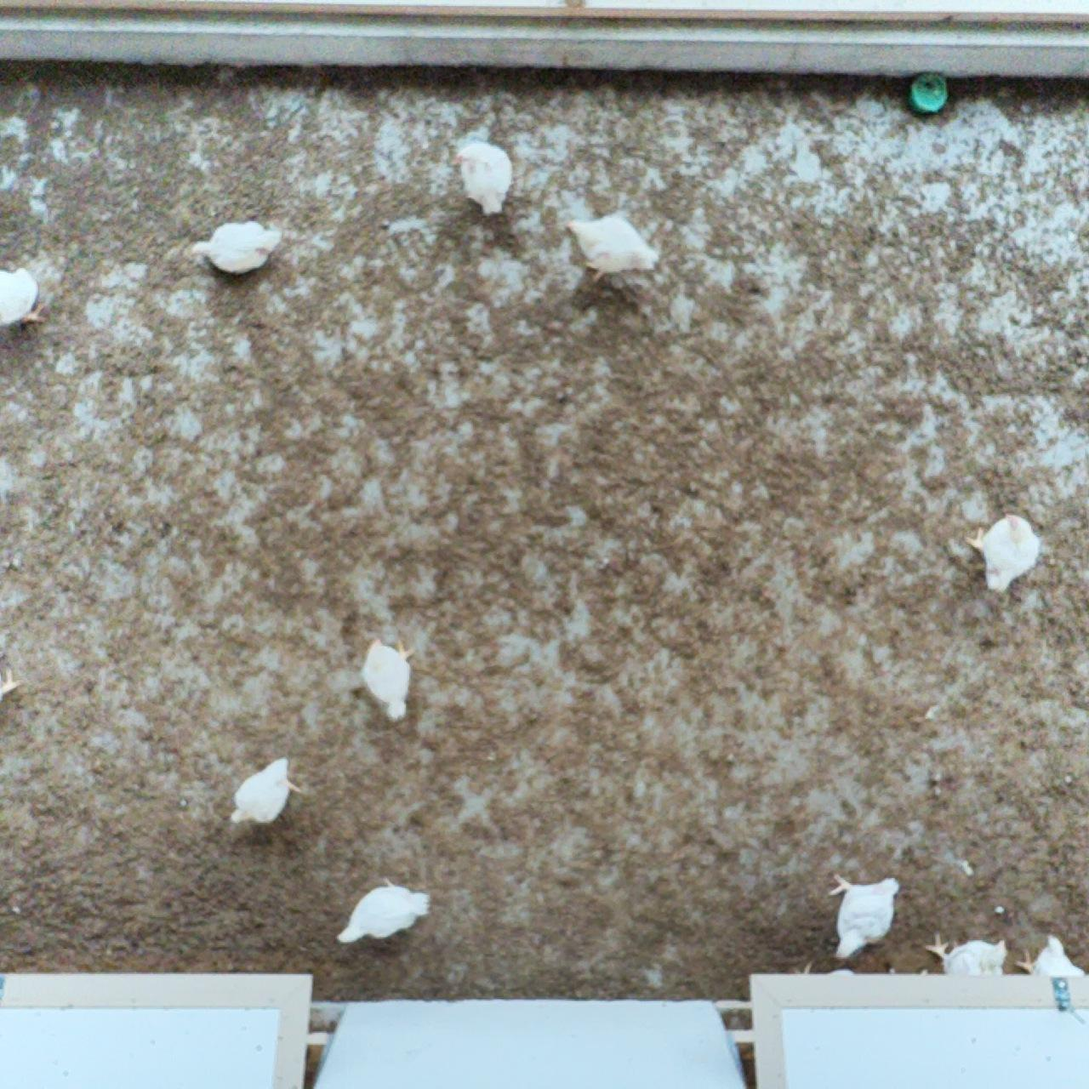chicken: (333, 873, 436, 954), (560, 208, 663, 288), (821, 864, 904, 962), (961, 510, 1044, 597), (354, 632, 426, 730), (225, 748, 308, 833), (185, 217, 285, 282), (449, 136, 516, 222), (920, 928, 1015, 976), (0, 262, 53, 341), (1012, 930, 1089, 980)
